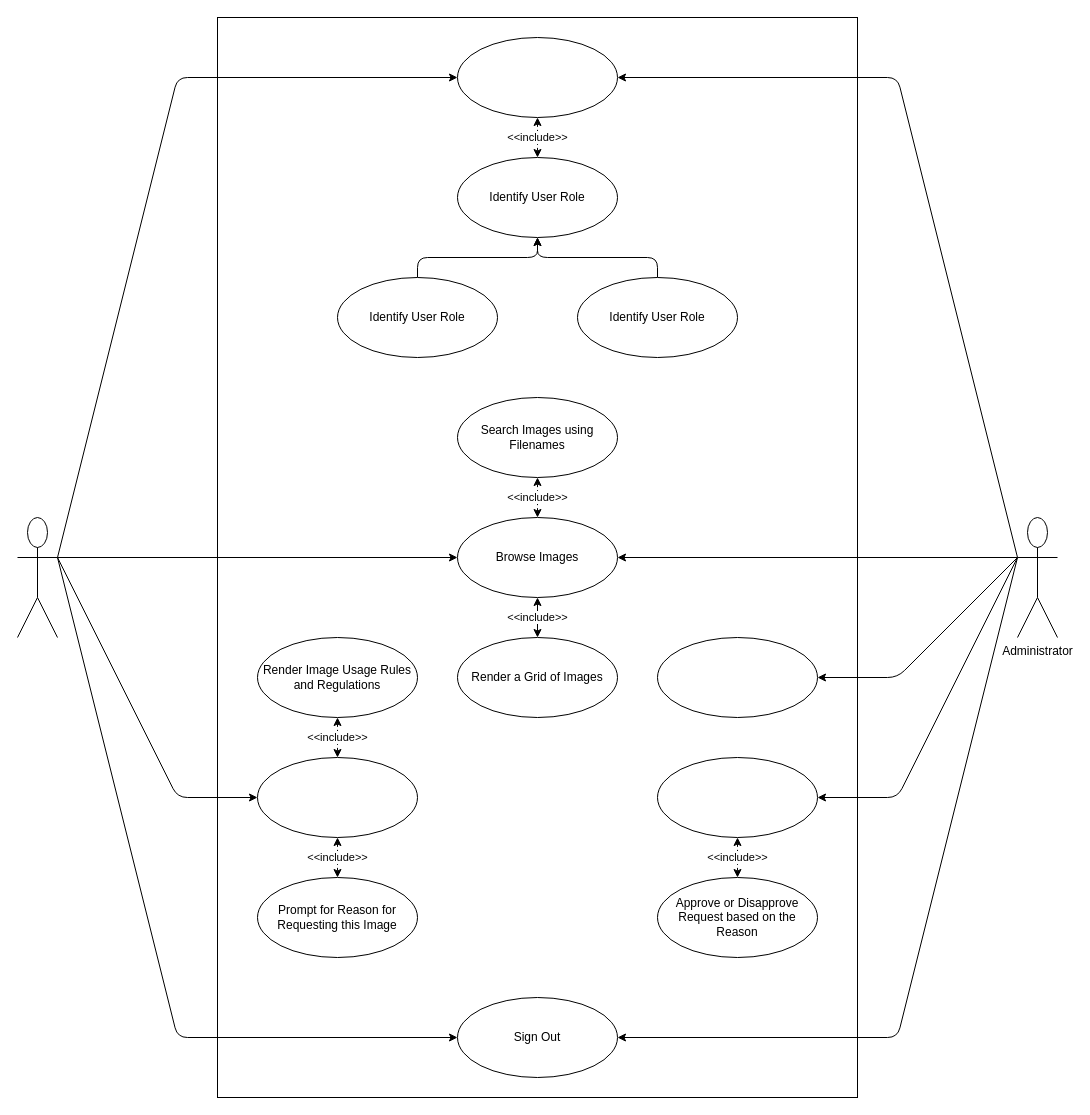
The diagram is 1090 pixels wide and 1115 high, and some of its shapes have lost their labels. Here are the shapes that lost their labels. From the top down, the centre of each, then its label:
At [537,77]: "Sign In".
At [37,577]: "Guest".
At [737,677]: "Upload and Generate Image Download Link".
At [337,797]: "Request Access to High Res Images".
At [737,797]: "Browse Images Requests".
